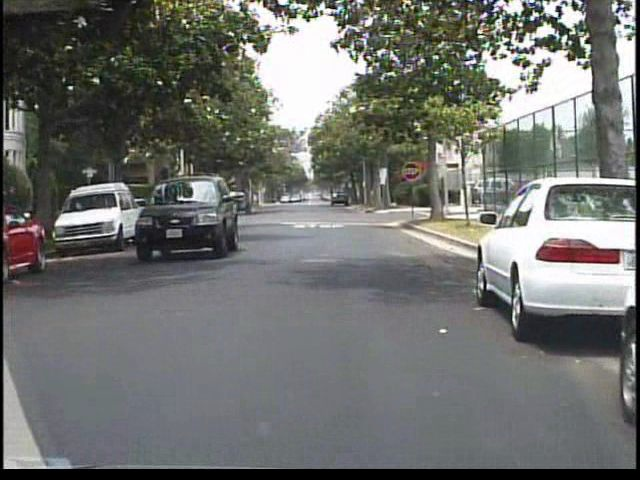person: (241, 182, 262, 224)
